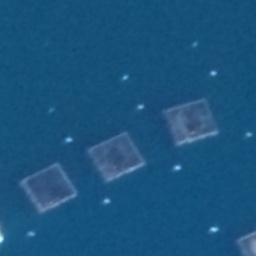square_cover: (84, 127, 154, 187), (14, 158, 85, 217), (159, 94, 224, 151), (230, 223, 255, 256)
